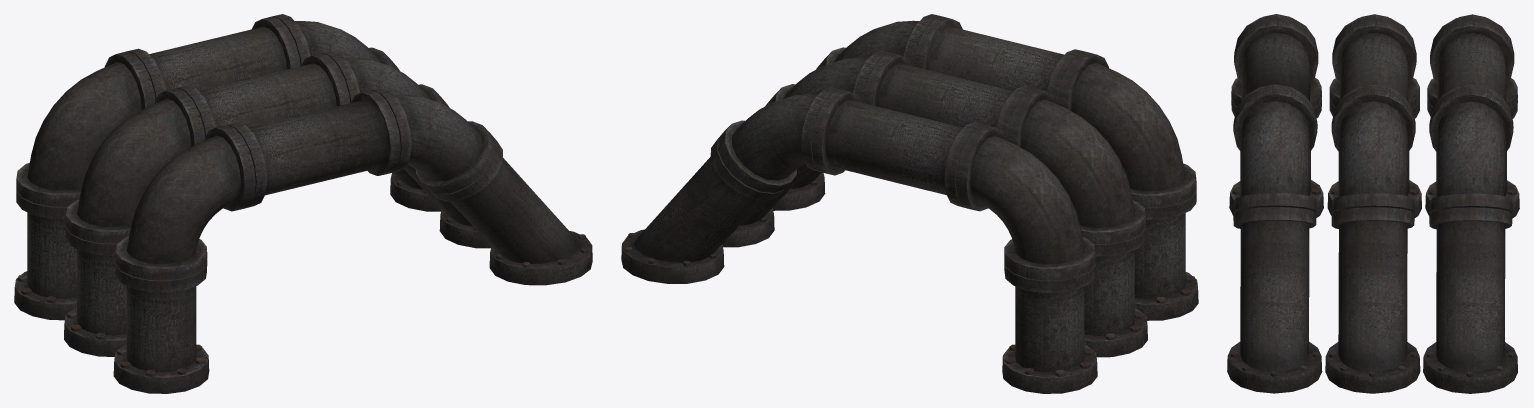
The model's file is Pipes.obj.
The picture shows the model from 3 angles, left to right: view 1: azimuth 30°, elevation 25°; view 2: azimuth 150°, elevation 25°; view 3: azimuth 270°, elevation 25°; orthographic projection. The views are drawn at different scales.
Visible parts, largest first — view 1: RUS_CET_propsF_1; view 2: RUS_CET_propsF_1; view 3: RUS_CET_propsF_1.
Part boxes in pixels (box(x1,y1,x2,y2)): RUS_CET_propsF_1: box(14, 14, 592, 393); RUS_CET_propsF_1: box(621, 14, 1198, 393); RUS_CET_propsF_1: box(1227, 14, 1519, 393).
Bounding box in the file's own units: 276 × 129 × 153.
Materials: 1 (1 with a texture image).
